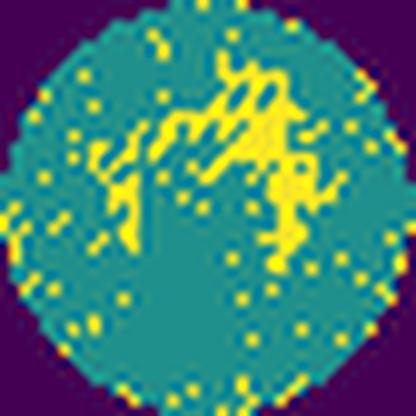Donut: (76, 43, 357, 296)
